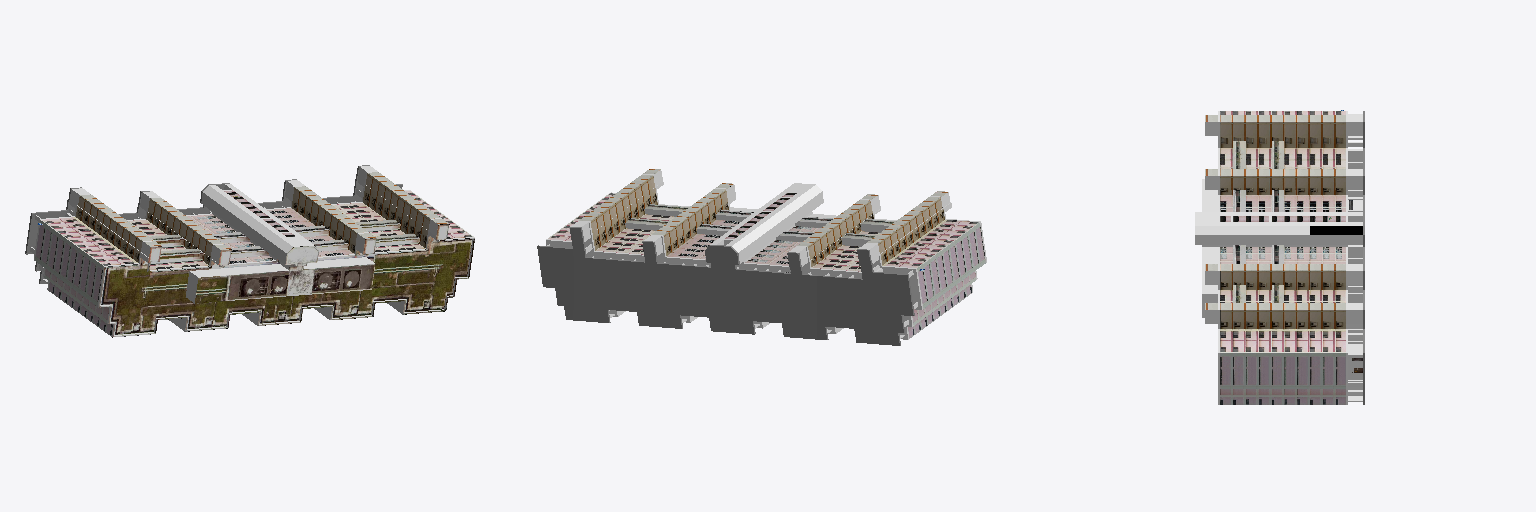
The picture shows the model from 3 angles: view 1: azimuth 30°, elevation 25°; view 2: azimuth 150°, elevation 25°; view 3: azimuth 270°, elevation 25°; orthographic projection.
Parts seen in each view (by area): view 1: polygon.805; view 2: polygon.805; view 3: polygon.805.
Boxes of the visible parts, x1,y1,x2,y2 form: polygon.805: [25, 165, 474, 337]; polygon.805: [537, 169, 986, 345]; polygon.805: [1195, 110, 1364, 404].
Bounding box in the file's own units: 92.25 × 33.52 × 36.2.
Materials: 1 (1 with a texture image).